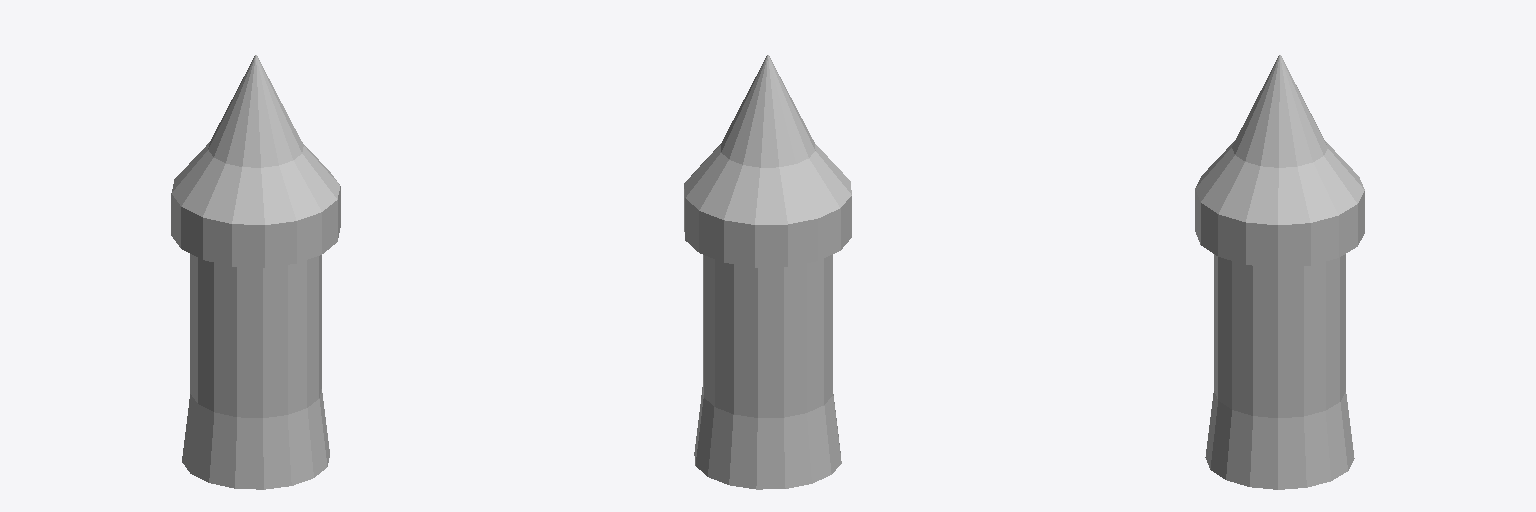
The model's file is tour_archer.obj.
3 views of the same model, side by side, from view 1: azimuth 30°, elevation 25°; view 2: azimuth 150°, elevation 25°; view 3: azimuth 270°, elevation 25° (orthographic).
Parts seen in each view (by area): view 1: Circle_Circle.001; view 2: Circle_Circle.001; view 3: Circle_Circle.001.
Boxes of the visible parts, x1=… form: Circle_Circle.001: x1=171, y1=55, x2=340, y2=489; Circle_Circle.001: x1=684, y1=55, x2=851, y2=489; Circle_Circle.001: x1=1195, y1=55, x2=1364, y2=489.
Bounding box in the file's own units: 4.36 × 11.45 × 4.36.